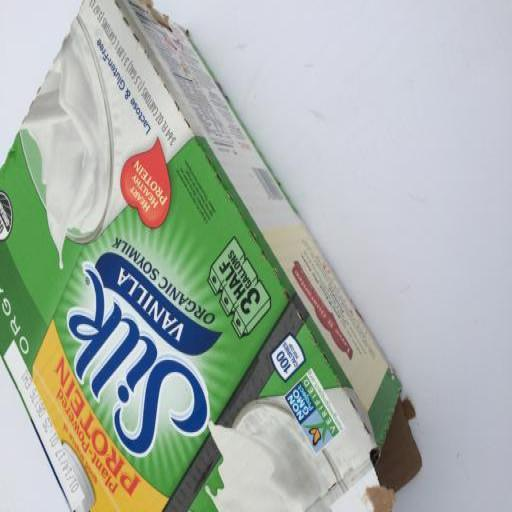cardboard: (0, 0, 424, 512)
